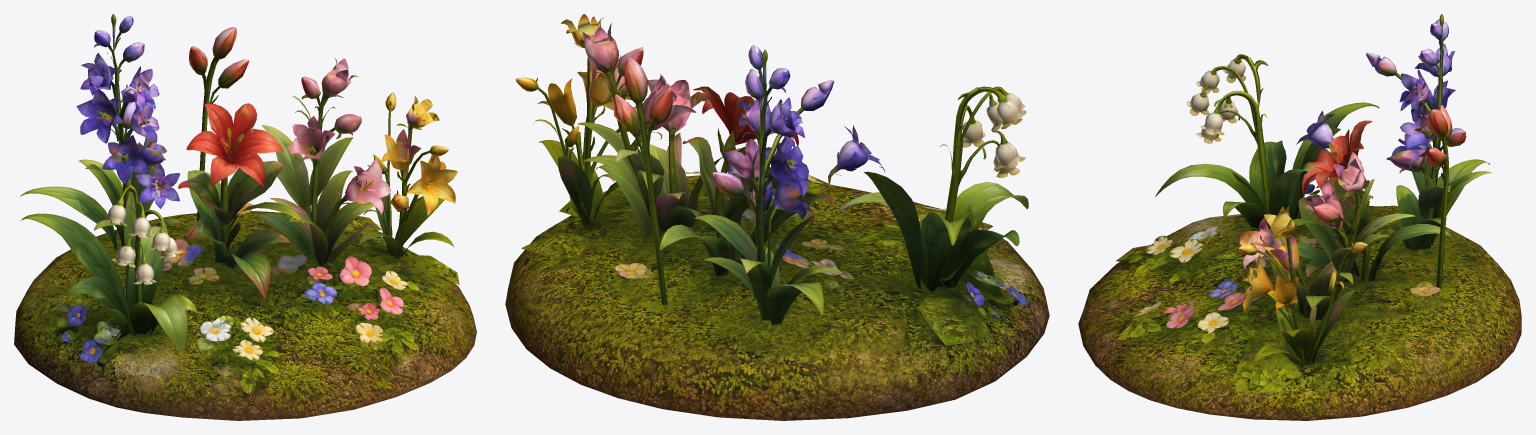
File: flower.glb
3 views of the same model, side by side, from view 1: azimuth 30°, elevation 25°; view 2: azimuth 150°, elevation 25°; view 3: azimuth 270°, elevation 25° (orthographic). The views are drawn at different scales.
Parts seen in each view (by area): view 1: tripo_node_50e7065c-8115-4b73-9993-fdfabcfd823a; view 2: tripo_node_50e7065c-8115-4b73-9993-fdfabcfd823a; view 3: tripo_node_50e7065c-8115-4b73-9993-fdfabcfd823a.
Boxes of the visible parts, x1,y1,x2,y2 form: tripo_node_50e7065c-8115-4b73-9993-fdfabcfd823a: (14,14,476,420); tripo_node_50e7065c-8115-4b73-9993-fdfabcfd823a: (505,14,1049,420); tripo_node_50e7065c-8115-4b73-9993-fdfabcfd823a: (1078,14,1521,420).
Size of the model in its own units: 0.9995 by 0.6694 by 0.9604.
Materials: 1 (1 with a texture image).
